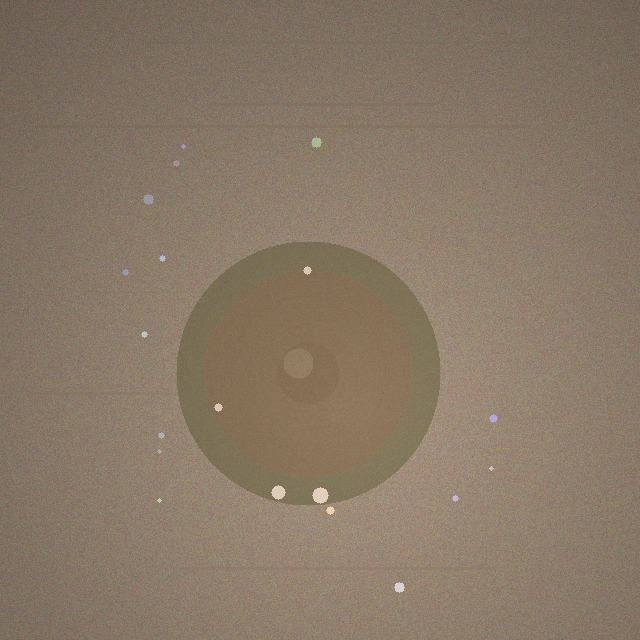overburn: (176, 241, 440, 505)
